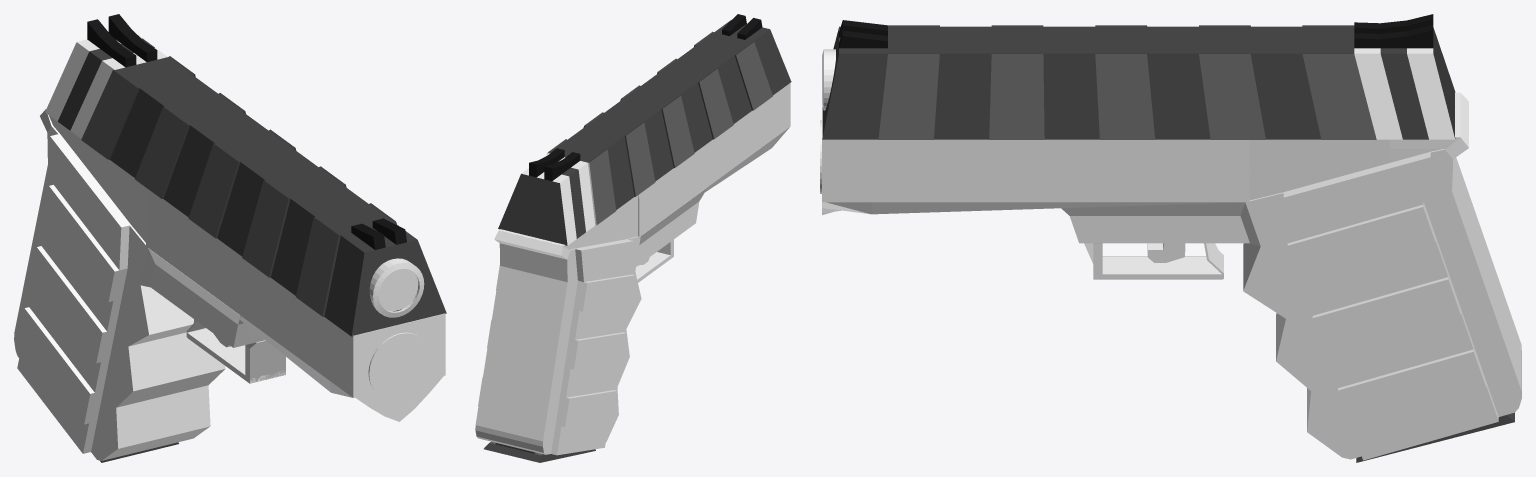
File: SciFi_Pistol(m4tt3o).fbx
The picture shows the model from 3 angles, left to right: view 1: azimuth 30°, elevation 25°; view 2: azimuth 150°, elevation 25°; view 3: azimuth 270°, elevation 25°; orthographic projection. The views are drawn at different scales.
Parts seen in each view (by area): view 1: Cube.002, Cube.001, Cylinder, Cylinder.004; view 2: Cube.002, Cube.001, Cube; view 3: Cube.002, Cube.001.
Part boxes in pixels (<box>): Cube.002: <box>14,109,445,460</box>; Cube.001: <box>45,14,446,336</box>; Cylinder: <box>368,332,430,399</box>; Cylinder.004: <box>369,258,424,317</box>; Cube.002: <box>475,83,790,455</box>; Cube.001: <box>498,14,791,245</box>; Cube: <box>483,441,595,462</box>; Cube.002: <box>822,92,1521,460</box>; Cube.001: <box>822,14,1455,139</box>.
Bounding box in the file's own units: 307 × 1004 × 1516.
Materials: 1 (1 with a texture image).
